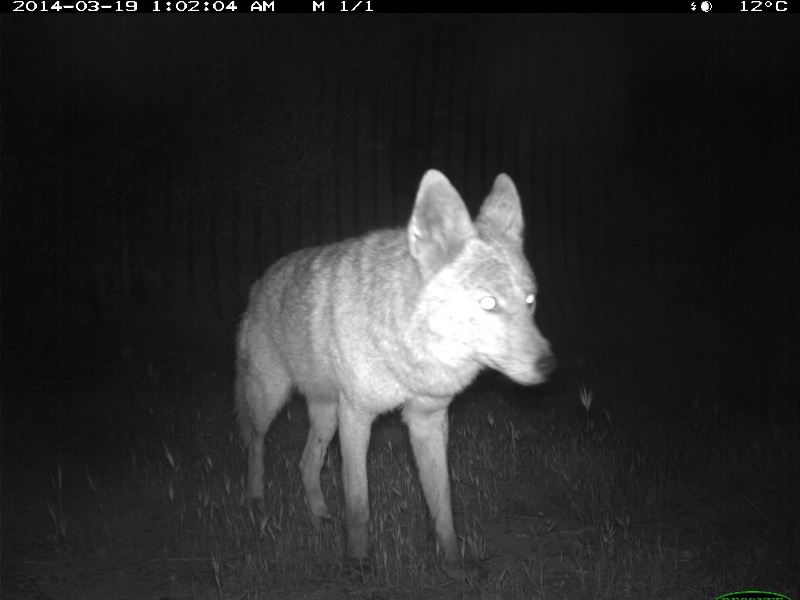coyote: (232, 155, 554, 588)
